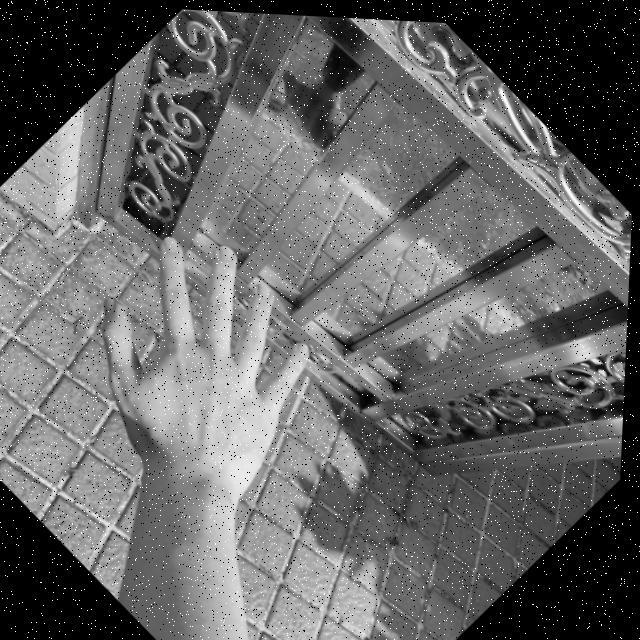no-gloves: (36, 193, 380, 536)
